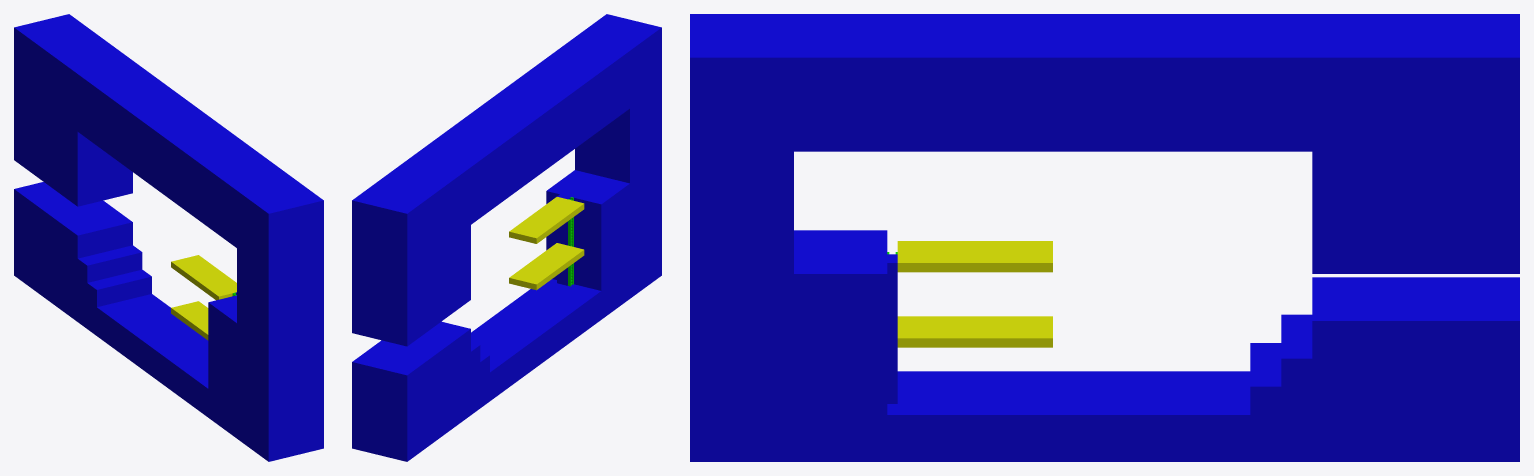
Rendered from Level_3_scene16_colored.fbx.
3 views of the same model, side by side, from view 1: azimuth 30°, elevation 25°; view 2: azimuth 150°, elevation 25°; view 3: azimuth 270°, elevation 25° (orthographic). The views are drawn at different scales.
Visible parts, largest first — view 1: Cube.014, Cube.077, Cube.078, Cube.013, Cube.001; view 2: Cube.014, Cube.078, Cube.013, Cube.001, Cube.077, Cube.005; view 3: Cube.014, Cube.078, Cube.077, Cube.001, Cube.013, Cube.005.
Boxes of the visible parts, <box> form: Cube.014: <box>14,14,323,461</box>; Cube.077: <box>77,245,151,306</box>; Cube.078: <box>208,295,236,409</box>; Cube.013: <box>171,255,236,300</box>; Cube.001: <box>171,301,208,340</box>; Cube.014: <box>352,14,661,461</box>; Cube.078: <box>546,170,629,290</box>; Cube.013: <box>509,197,584,243</box>; Cube.001: <box>509,243,584,290</box>; Cube.077: <box>471,342,489,385</box>; Cube.005: <box>557,194,570,285</box>; Cube.014: <box>690,14,1519,461</box>; Cube.078: <box>794,230,887,414</box>; Cube.077: <box>1250,314,1312,414</box>; Cube.001: <box>897,316,1052,347</box>; Cube.013: <box>897,241,1052,272</box>; Cube.005: <box>887,254,897,403</box>.
Size of the model in its own units: 1000 by 4300 by 8000.
